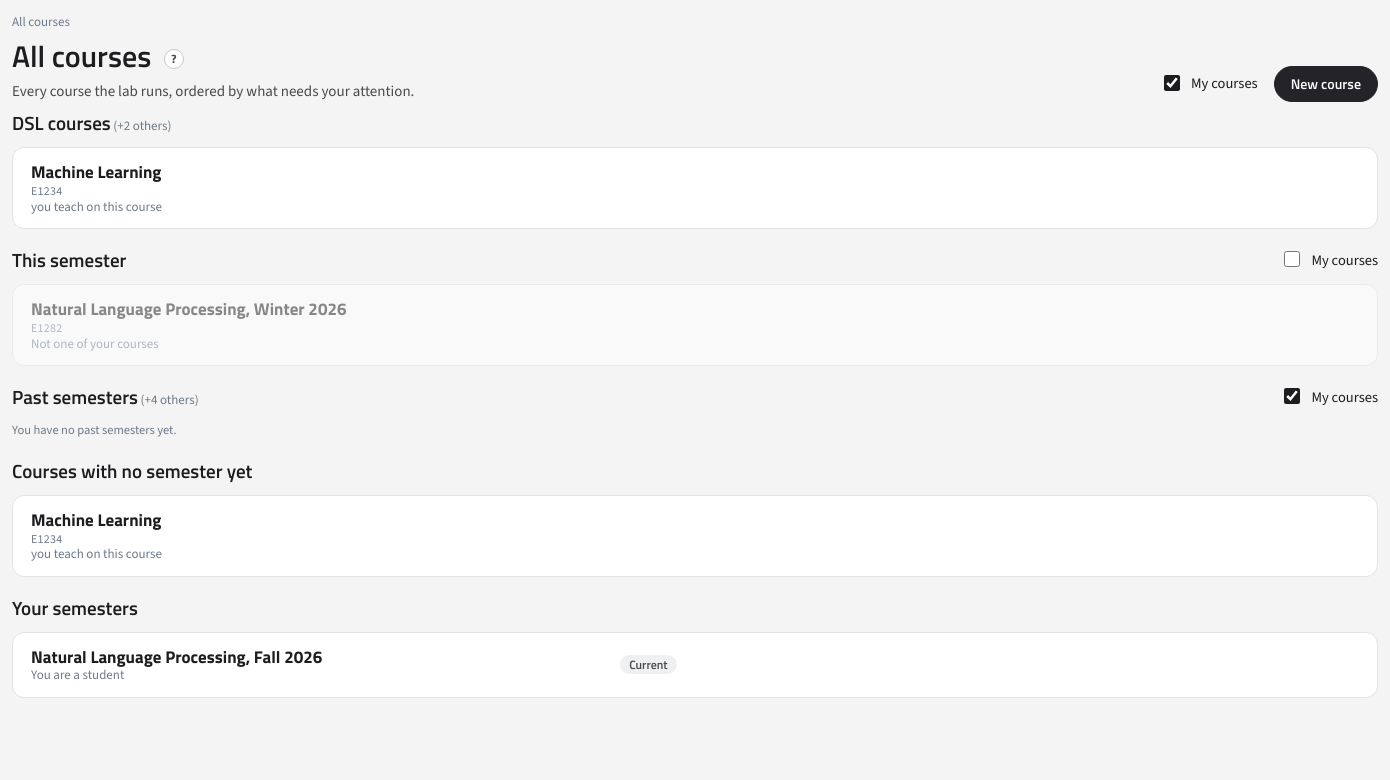
Scenario: All courses › never greys a semester the person studies in: it shows under Your semesters only
What coordinates should you click on to do the following:
click the checkbox labelled "My courses" in the row of "This semester"
I would click on:
 (1292, 259)
Its box is [1284,251,1300,267].
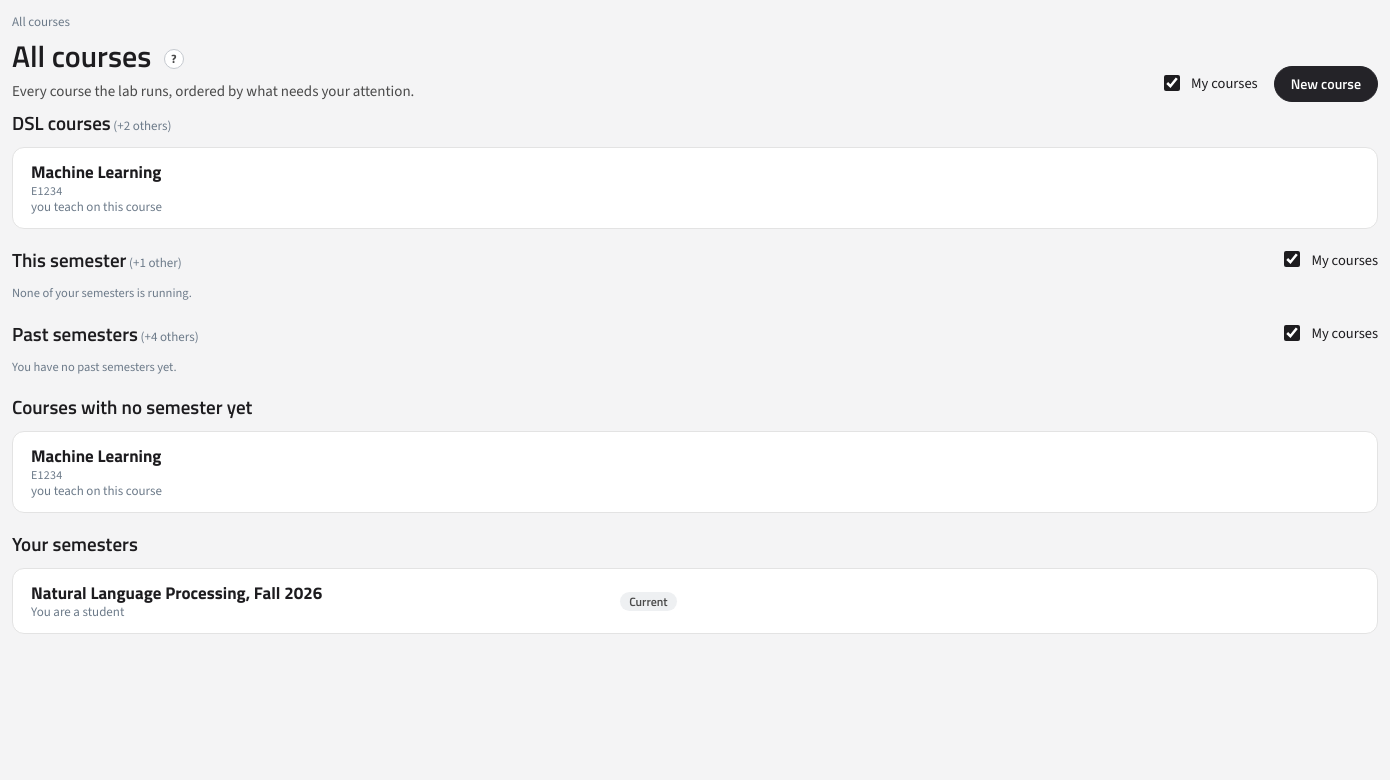
Check: the element with class "section-head" shows "This semester (+1 other)", box [12,249,1378,272]
